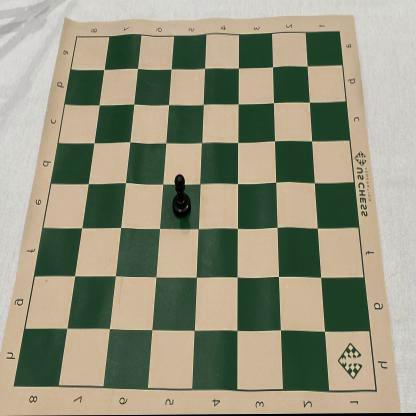black-pawn: (172, 174, 192, 219)
